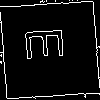E: (25, 25, 73, 62)
